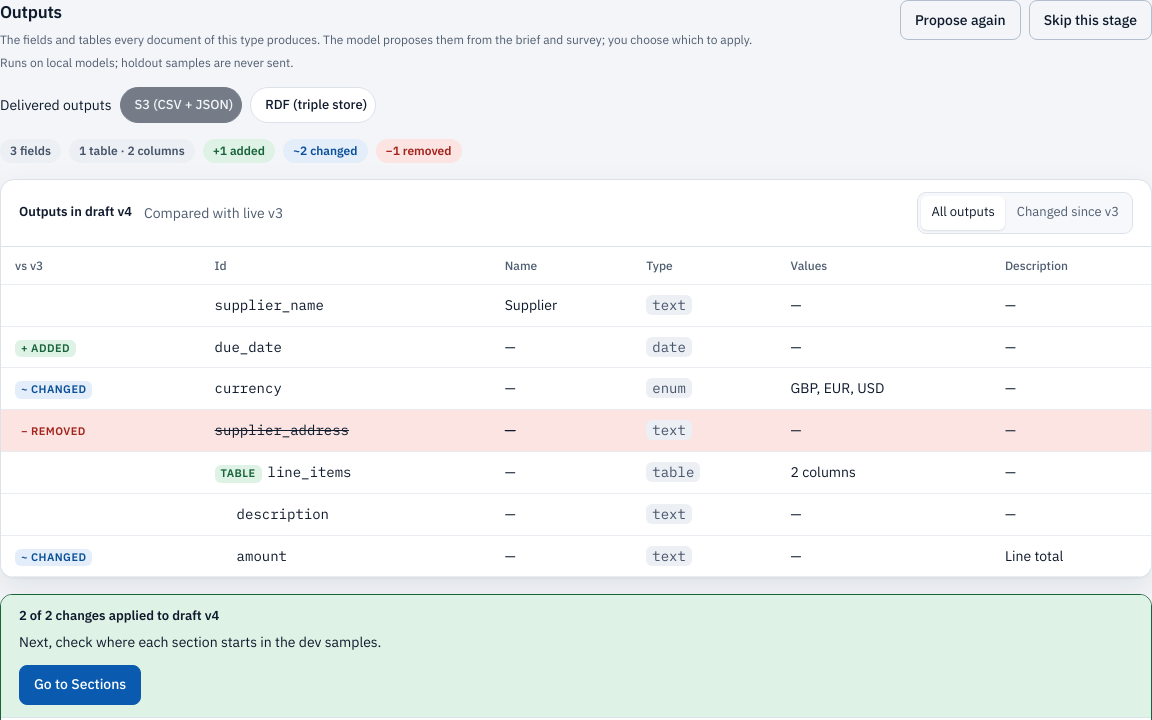
Test: Outputs tab › filters to the outputs changed since live
Expected: the row "+ ADDED due_date — date — —" is shown, [1, 326, 1151, 368]
What coordinates should you click on to do the following:
click the button "Changed since v3"
I would click on:
 (1068, 213)
Its box is [1007, 196, 1129, 230].
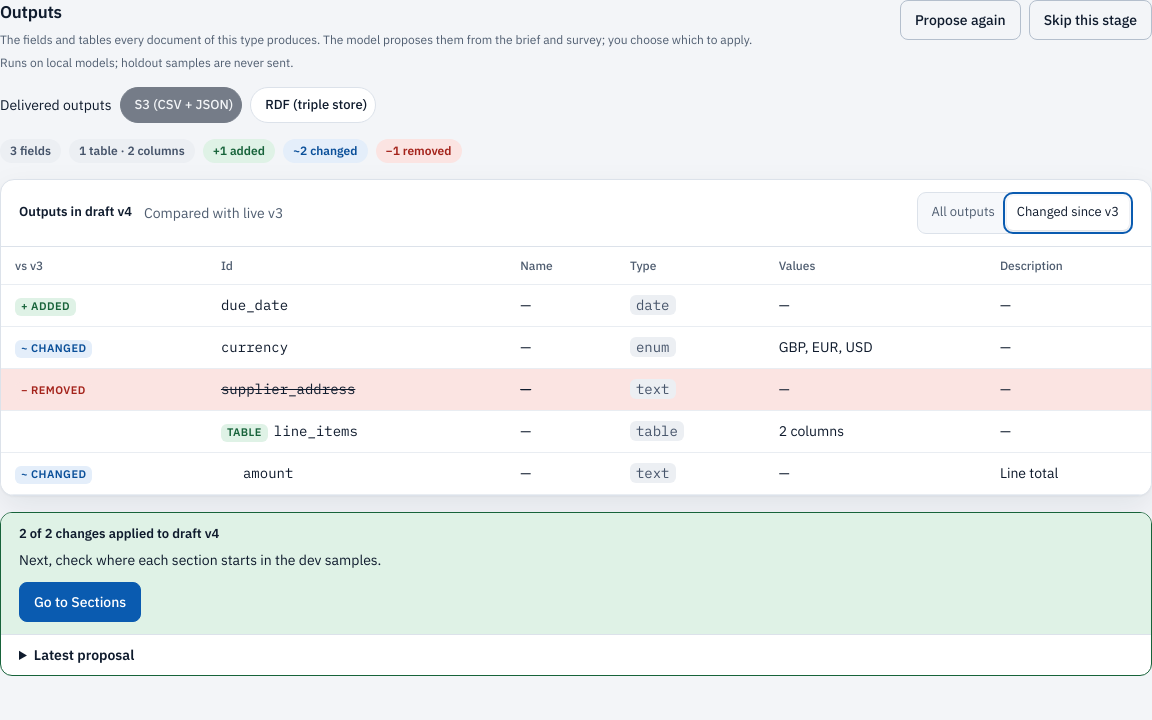
Expected: the row "TABLE line_items — table 2 columns —" is shown, [1, 410, 1151, 452]
Now the text "supplier_name" is gone
